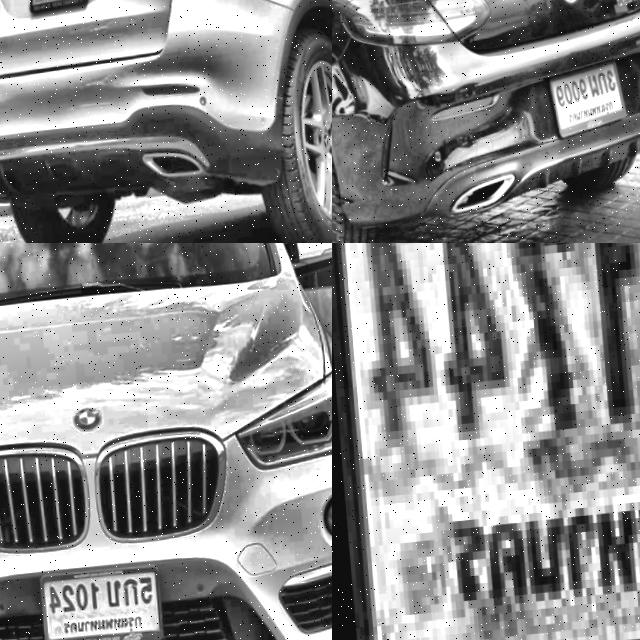license-plate: (332, 243, 640, 640), (28, 566, 161, 640), (543, 63, 623, 150), (19, 0, 89, 16)
